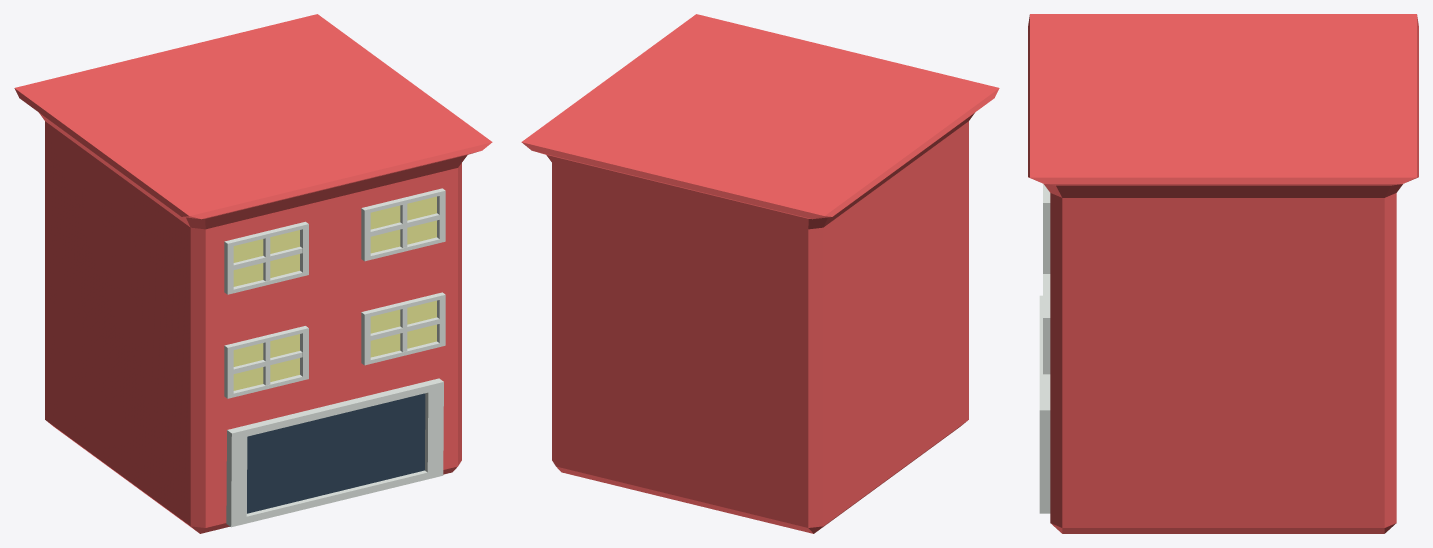
The model's file is building2.fbx.
3 renders of one model, left to right at view 1: azimuth 30°, elevation 25°; view 2: azimuth 150°, elevation 25°; view 3: azimuth 270°, elevation 25°, orthographic. The views are drawn at different scales.
Visible parts, largest first — view 1: Cube, Cube.005, Cube.003, Cube.008, Cube.006, Cube.001; view 2: Cube; view 3: Cube, Cube.005, Cube.008, Cube.006.
Part boxes in pixels (box(x1,y1,x2,y2)): Cube: box(14, 14, 492, 533); Cube.005: box(226, 378, 443, 527); Cube.003: box(224, 221, 308, 294); Cube.008: box(361, 292, 445, 365); Cube.006: box(361, 188, 445, 261); Cube.001: box(224, 326, 308, 398); Cube: box(521, 14, 999, 533); Cube: box(1028, 14, 1418, 533); Cube.005: box(1039, 295, 1050, 513); Cube.008: box(1043, 274, 1050, 374); Cube.006: box(1043, 183, 1050, 259).
Bounding box in the file's own units: 933 × 975 × 933.
